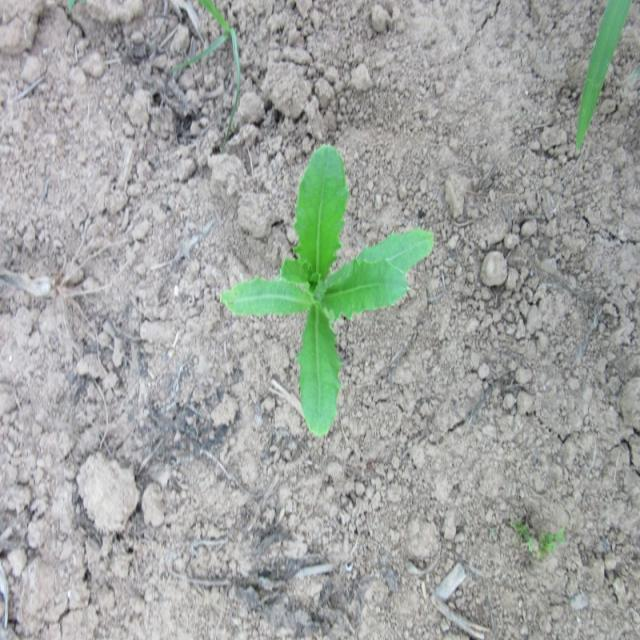cs: (218, 138, 437, 442)
